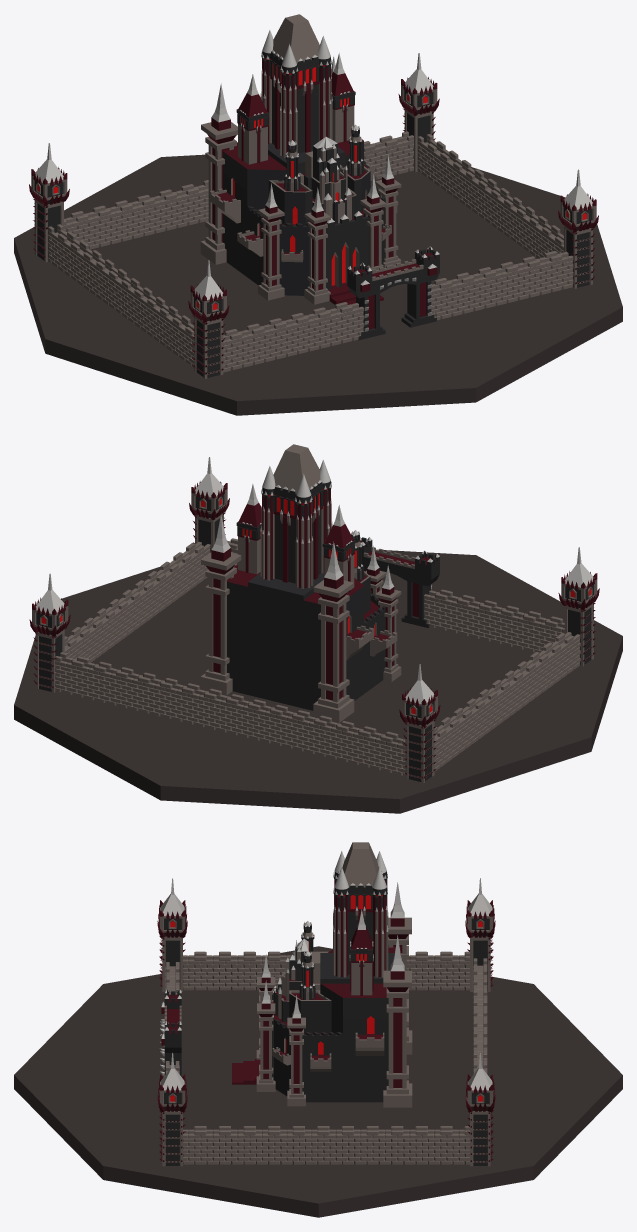
File: Low_Poly_Dark_Castle.glb
The picture shows the model from 3 angles, top to bottom: view 1: azimuth 30°, elevation 25°; view 2: azimuth 150°, elevation 25°; view 3: azimuth 270°, elevation 25°; orthographic projection. The views are drawn at different scales.
Visible parts, largest first — view 1: Ground_Set 3 - Material.003_0, Castle_Set 4 - Material.003_0, Castle_Set 4 - Material.004_0, Castle_Set 4 - Material_0, Wall.006_Set 4 - Material.003_0, Wall.005_Set 4 - Material.003_0, Wall.004_Set 4 - Material.003_0, Wall.003_Set 4 - Material.003_0, Wall.002_Set 4 - Material.003_0, Gate_Set 4 - Material.004_0, Castle_Set 4 - Material.002_0, Tower.003_Set 4 - Material.003_0 (+13 smaller); view 2: Ground_Set 3 - Material.003_0, Castle_Set 4 - Material.004_0, Wall.006_Set 4 - Material.003_0, Castle_Set 4 - Material.003_0, Castle_Set 4 - Material_0, Wall.005_Set 4 - Material.003_0, Wall.004_Set 4 - Material.003_0, Wall.002_Set 4 - Material.003_0, Castle_Set 4 - Material.002_0, Gate_Set 4 - Material.004_0, Tower.002_Set 4 - Material.003_0, Tower.002_Set 4 - Material.004_0 (+11 smaller); view 3: Ground_Set 3 - Material.003_0, Castle_Set 4 - Material.004_0, Castle_Set 4 - Material.003_0, Wall.004_Set 4 - Material.003_0, Castle_Set 4 - Material_0, Wall.005_Set 4 - Material.003_0, Castle_Set 4 - Material.002_0, Wall.006_Set 4 - Material.003_0, Gate_Set 4 - Material.004_0, Tower_Set 4 - Material.003_0, Tower.001_Set 4 - Material.003_0, Tower_Set 4 - Material.004_0 (+10 smaller).
Boxes of the visible parts, x1=… form: Ground_Set 3 - Material.003_0: x1=14, y1=154, x2=622, y2=415; Castle_Set 4 - Material.003_0: x1=200, y1=14, x2=401, y2=304; Castle_Set 4 - Material.004_0: x1=223, y1=51, x2=384, y2=295; Castle_Set 4 - Material_0: x1=207, y1=59, x2=397, y2=304; Wall.006_Set 4 - Material.003_0: x1=64, y1=131, x2=413, y2=249; Wall.005_Set 4 - Material.003_0: x1=48, y1=224, x2=194, y2=367; Wall.004_Set 4 - Material.003_0: x1=417, y1=134, x2=563, y2=258; Wall.003_Set 4 - Material.003_0: x1=431, y1=251, x2=573, y2=320; Wall.002_Set 4 - Material.003_0: x1=223, y1=302, x2=364, y2=372; Gate_Set 4 - Material.004_0: x1=347, y1=246, x2=439, y2=340; Castle_Set 4 - Material.002_0: x1=211, y1=30, x2=393, y2=223; Tower.003_Set 4 - Material.003_0: x1=190, y1=260, x2=226, y2=378; Ground_Set 3 - Material.003_0: x1=14, y1=549, x2=622, y2=813; Castle_Set 4 - Material.004_0: x1=227, y1=481, x2=385, y2=710; Wall.006_Set 4 - Material.003_0: x1=55, y1=652, x2=405, y2=776; Castle_Set 4 - Material.003_0: x1=200, y1=444, x2=401, y2=722; Castle_Set 4 - Material_0: x1=206, y1=490, x2=396, y2=700; Wall.005_Set 4 - Material.003_0: x1=434, y1=632, x2=580, y2=771; Wall.004_Set 4 - Material.003_0: x1=64, y1=542, x2=210, y2=662; Wall.002_Set 4 - Material.003_0: x1=424, y1=589, x2=564, y2=653; Castle_Set 4 - Material.002_0: x1=211, y1=460, x2=394, y2=589; Gate_Set 4 - Material.004_0: x1=356, y1=535, x2=439, y2=627; Tower.002_Set 4 - Material.003_0: x1=402, y1=664, x2=437, y2=783; Tower.002_Set 4 - Material.004_0: x1=406, y1=701, x2=434, y2=781; Ground_Set 3 - Material.003_0: x1=14, y1=946, x2=622, y2=1217; Castle_Set 4 - Material.004_0: x1=272, y1=871, x2=400, y2=1102; Castle_Set 4 - Material.003_0: x1=256, y1=842, x2=412, y2=1107; Wall.004_Set 4 - Material.003_0: x1=183, y1=1126, x2=469, y2=1164; Castle_Set 4 - Material_0: x1=232, y1=879, x2=408, y2=1093; Wall.005_Set 4 - Material.003_0: x1=183, y1=951, x2=469, y2=990; Castle_Set 4 - Material.002_0: x1=261, y1=851, x2=404, y2=1018; Wall.006_Set 4 - Material.003_0: x1=473, y1=958, x2=487, y2=1073; Gate_Set 4 - Material.004_0: x1=164, y1=989, x2=181, y2=1076; Tower_Set 4 - Material.003_0: x1=159, y1=1052, x2=187, y2=1166; Tower.001_Set 4 - Material.003_0: x1=465, y1=1052, x2=493, y2=1166; Tower_Set 4 - Material.004_0: x1=164, y1=1092, x2=181, y2=1165.
Bounding box in the file's own units: 66.36 × 29.26 × 66.36.
